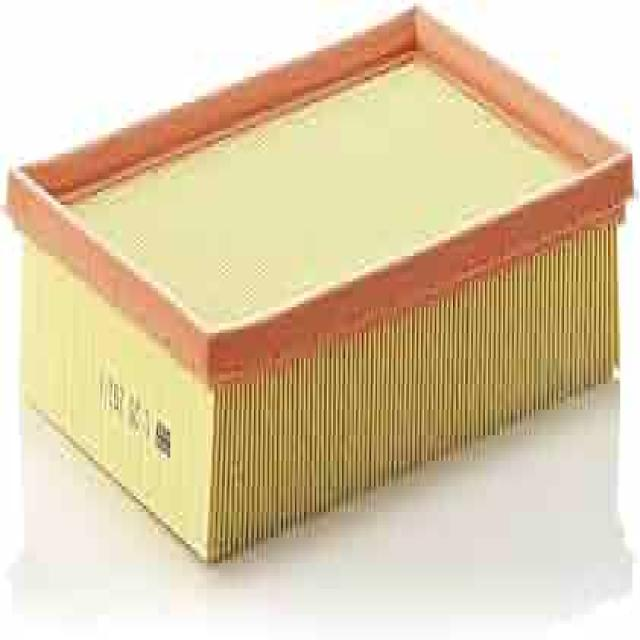air_filter: (9, 1, 640, 559)
